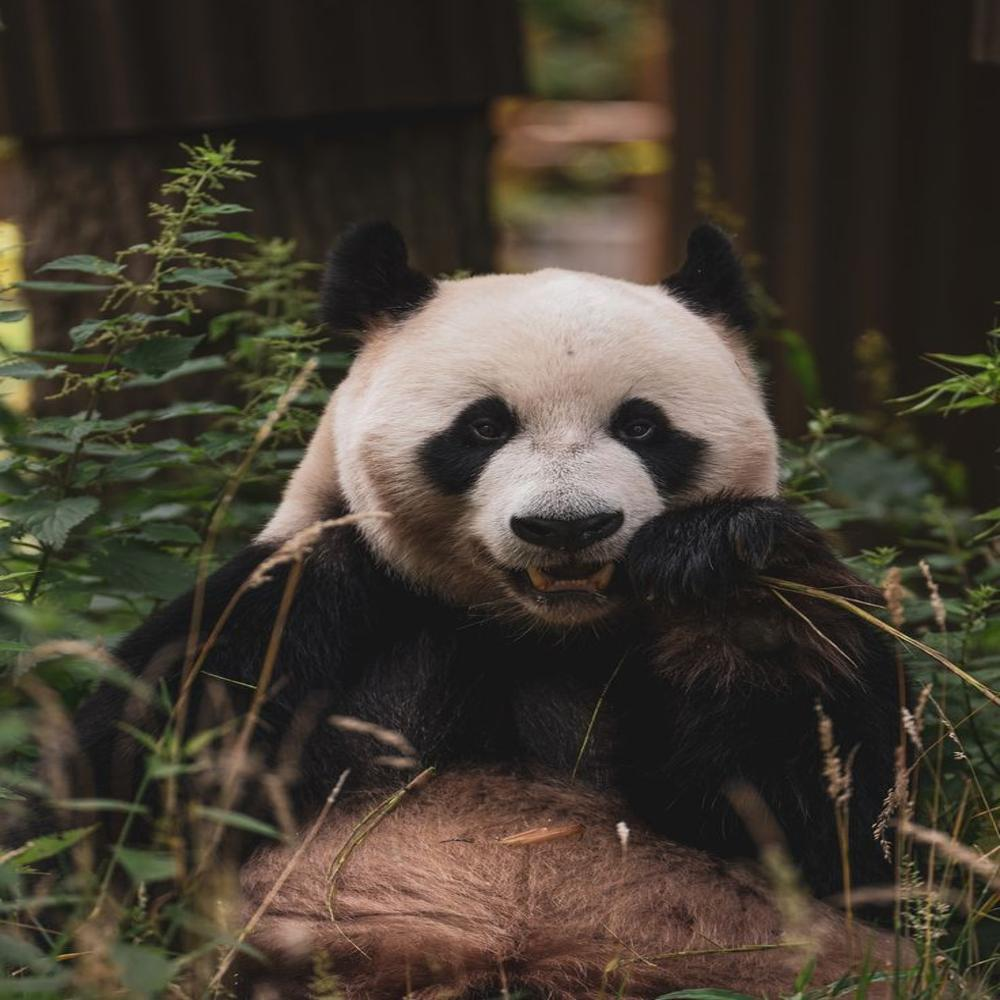panda: (150, 210, 930, 908)
